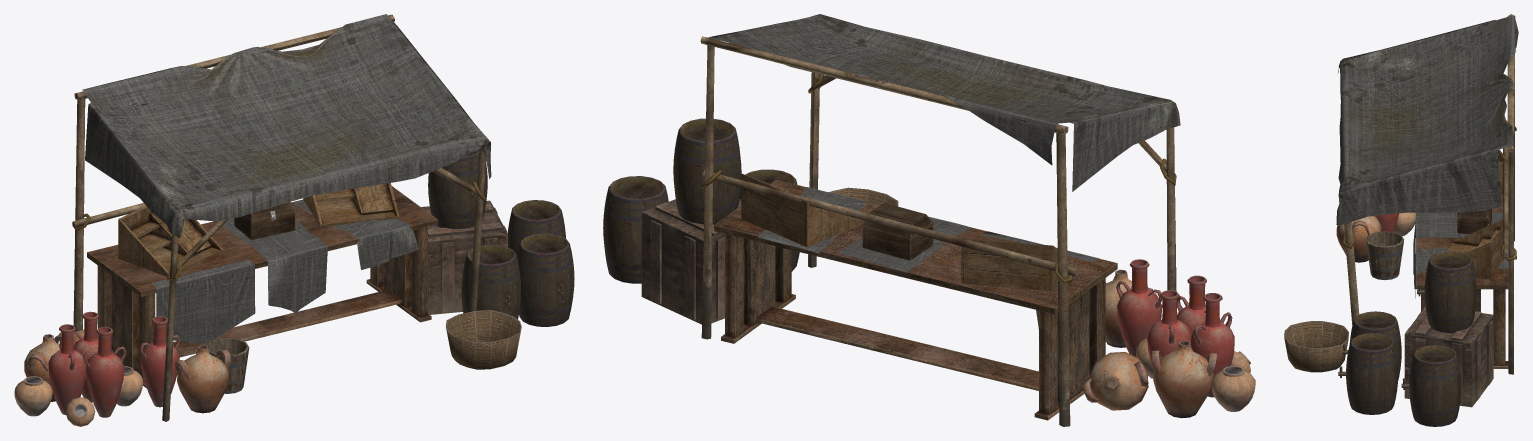
The model's file is Nsho_Stand_B-transformed.glb.
The picture shows the model from 3 angles, left to right: view 1: azimuth 30°, elevation 25°; view 2: azimuth 150°, elevation 25°; view 3: azimuth 270°, elevation 25°; orthographic projection. The views are drawn at different scales.
Visible parts, largest first — view 1: default; view 2: default; view 3: default.
Part boxes in pixels (<box>): default: <box>14,14,574,426</box>; default: <box>603,14,1255,426</box>; default: <box>1284,14,1518,426</box>.
Size of the model in its own units: 4.87 by 2.22 by 2.05.
Materials: 9 (9 with a texture image).
